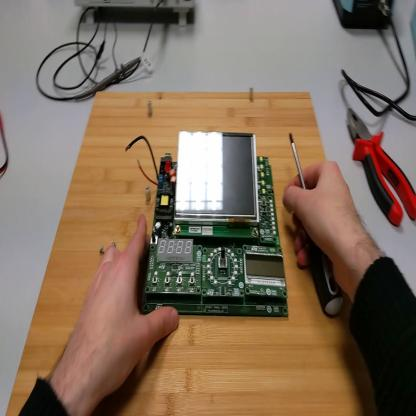hand: (69, 215, 178, 401), (282, 161, 362, 281)
low voltage board: (125, 130, 292, 320)
oscilloscope: (74, 2, 194, 27)
oscilloscope probe tip: (79, 53, 137, 100)
pliers: (347, 110, 415, 227)
screwdriver-: (290, 133, 346, 321)
welder station: (335, 1, 396, 32)
working area: (8, 94, 379, 415)
